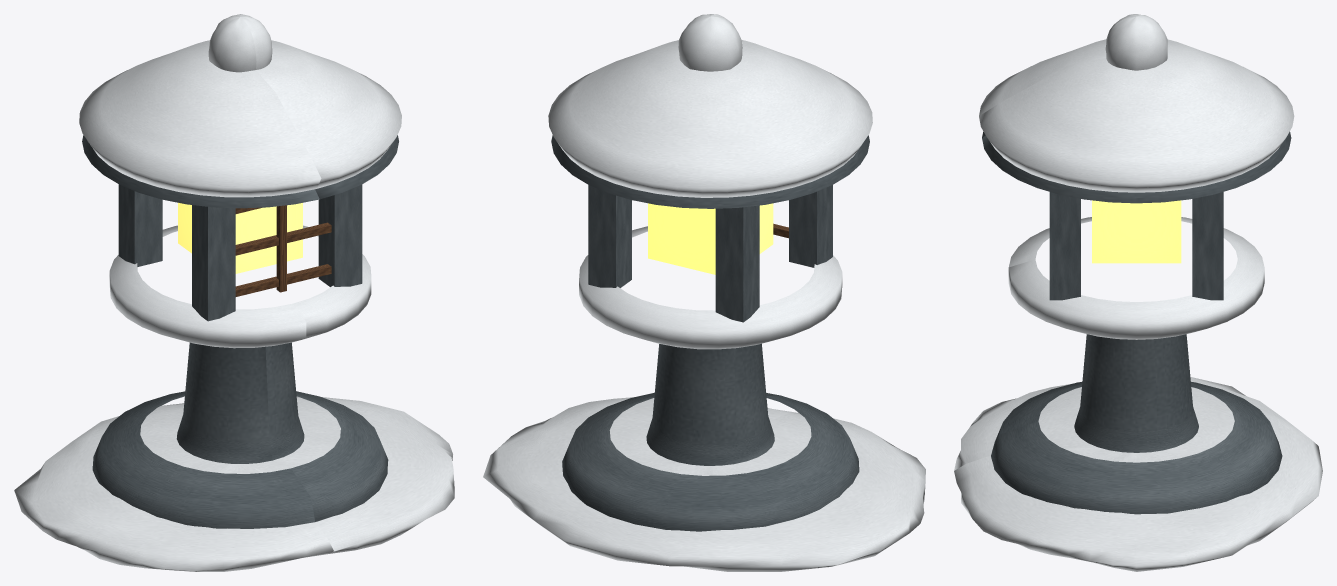
Rendered from nyanisyarud-snow-lantern.glb.
The picture shows the model from 3 angles, left to right: view 1: azimuth 30°, elevation 25°; view 2: azimuth 150°, elevation 25°; view 3: azimuth 270°, elevation 25°; orthographic projection. The views are drawn at different scales.
Visible parts, largest first — view 1: Snow lantern | front +Z; view 2: Snow lantern | front +Z; view 3: Snow lantern | front +Z.
Part boxes in pixels (x1=…): Snow lantern | front +Z: x1=14, y1=14, x2=454, y2=571; Snow lantern | front +Z: x1=483, y1=14, x2=925, y2=571; Snow lantern | front +Z: x1=954, y1=14, x2=1322, y2=571.
Bounding box in the file's own units: 1.5 × 1.77 × 1.24.
Materials: 4 (4 with a texture image).
